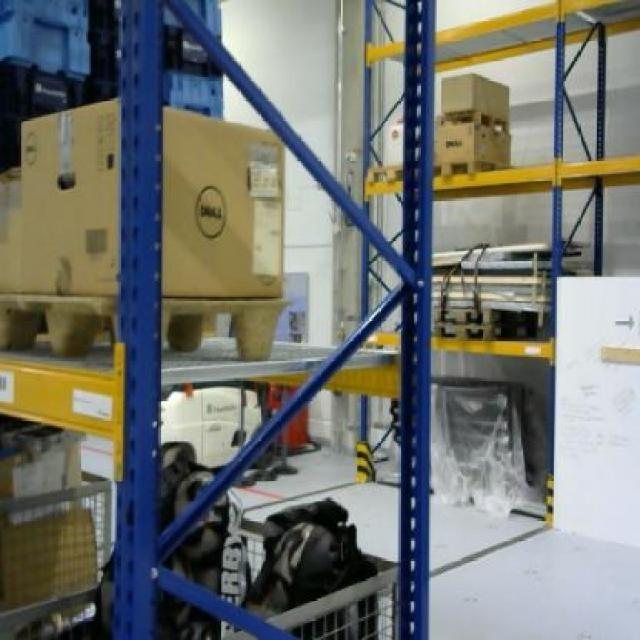box: (19, 94, 282, 294), (438, 68, 512, 117), (436, 122, 512, 164)
